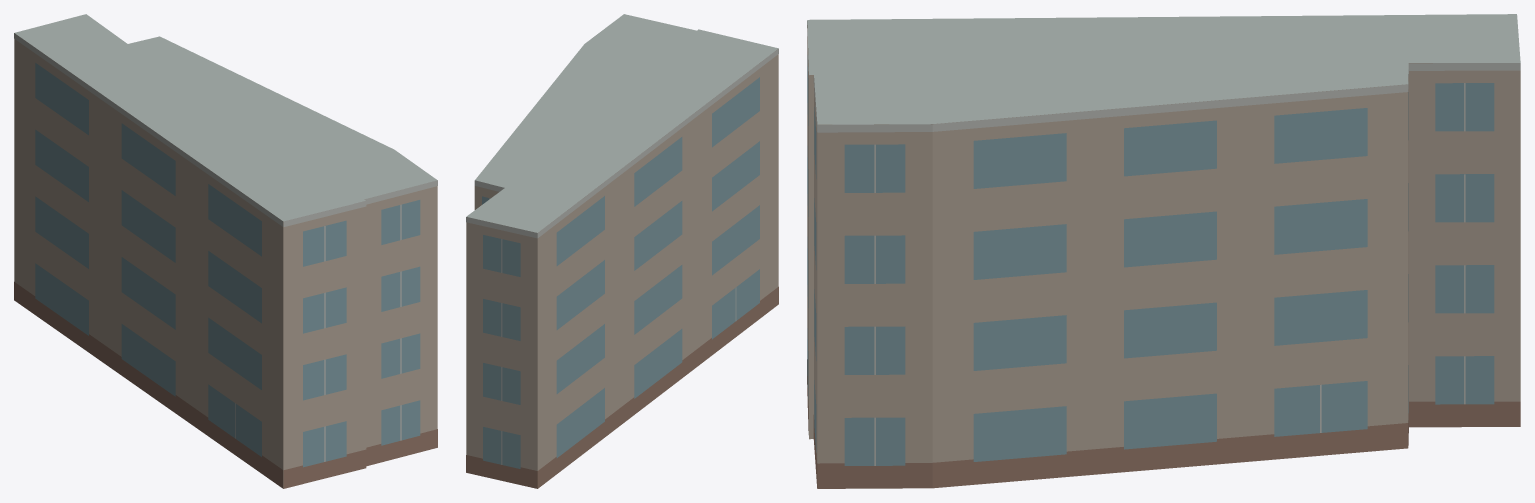
File: survey-upis-33045478.glb
3 renders of one model, left to right at view 1: azimuth 30°, elevation 25°; view 2: azimuth 150°, elevation 25°; view 3: azimuth 270°, elevation 25°, orthographic. The views are drawn at different scales.
Parts seen in each view (by area): view 1: survey-upis-33045478.tmp; view 2: survey-upis-33045478.tmp; view 3: survey-upis-33045478.tmp.
Boxes of the visible parts, bbox=[...] form: survey-upis-33045478.tmp: bbox=[14, 14, 437, 488]; survey-upis-33045478.tmp: bbox=[466, 14, 778, 488]; survey-upis-33045478.tmp: bbox=[807, 14, 1520, 488].
Size of the model in its own units: 7.42 by 11.35 by 20.17.
